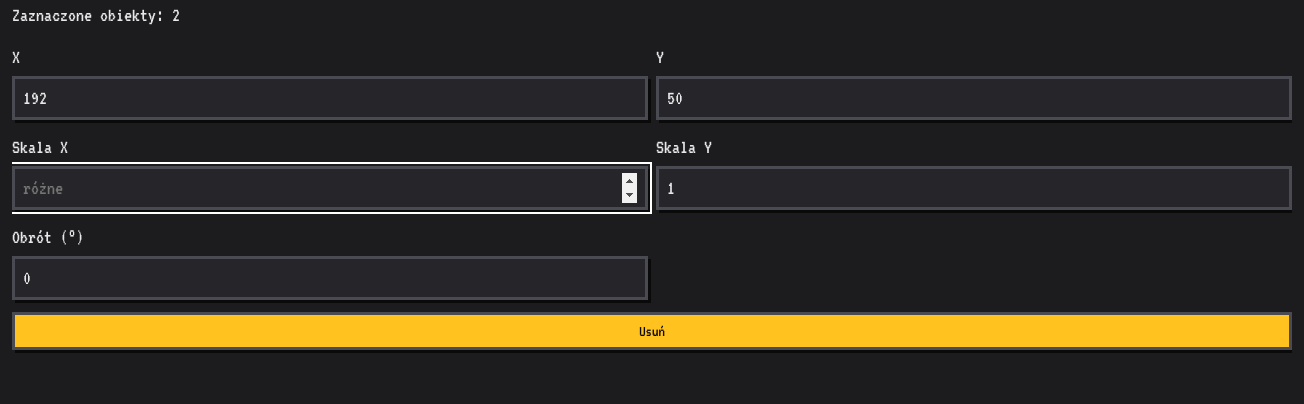
Test: sets the same scale for all selected objects in one undo step
Type "2" into the number field labelled "Skala X".
click(330, 188); type("2")  # box [12, 166, 648, 210]
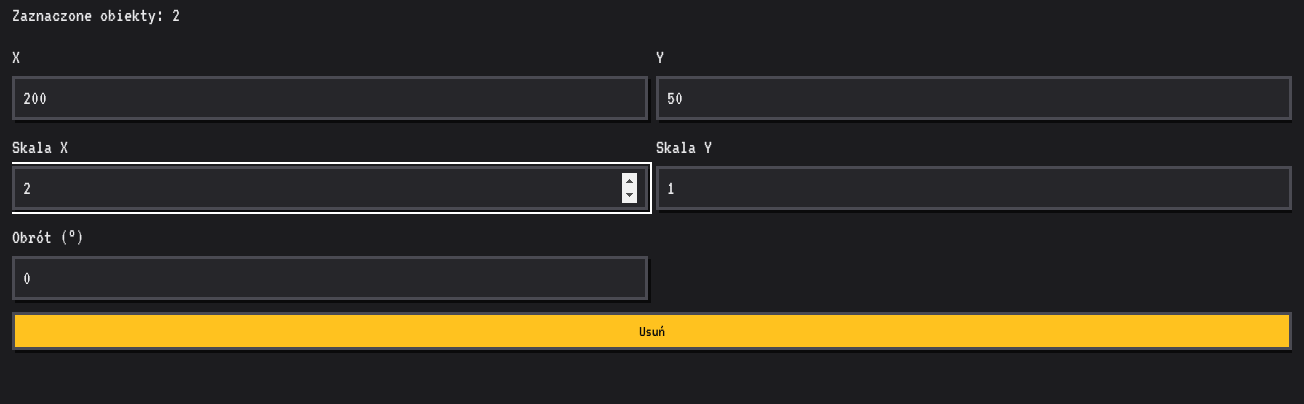
Press Enter in the number field labelled "Skala X", box [12, 166, 648, 210]
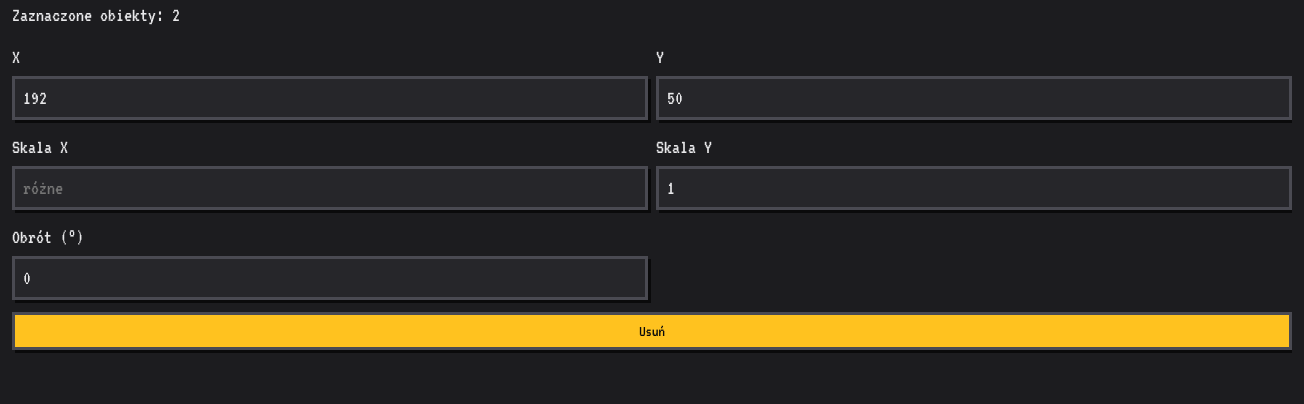
Type "-3" into the number field labelled "Skala X".
click(330, 188); type("-3")  # box [12, 166, 648, 210]
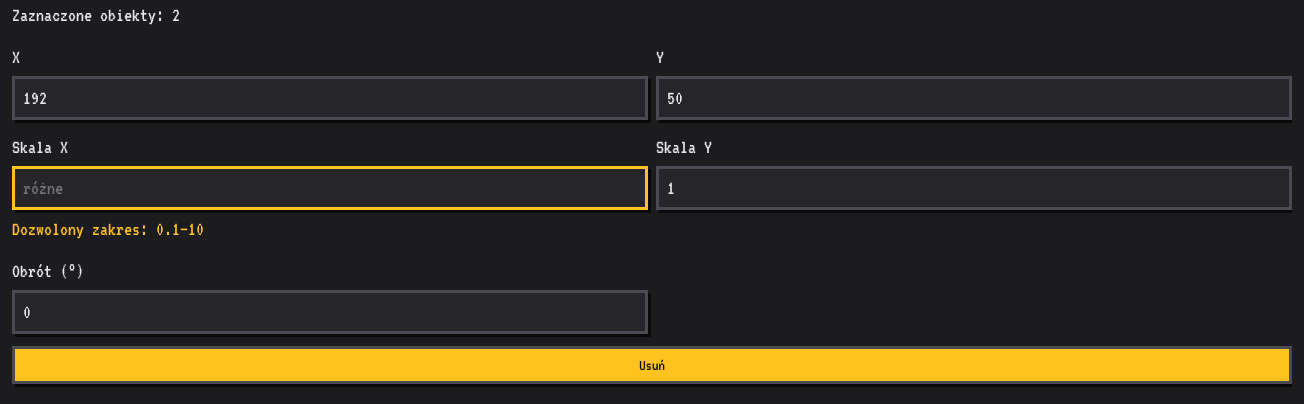
Result: the text "Dozwolony zakres: 0.1–10" is shown at [12, 219, 204, 239]
